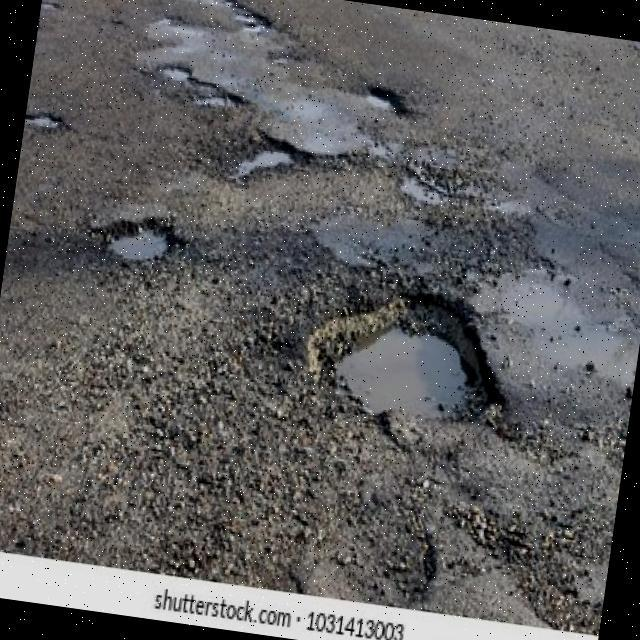Pothole: (306, 298, 499, 422)
